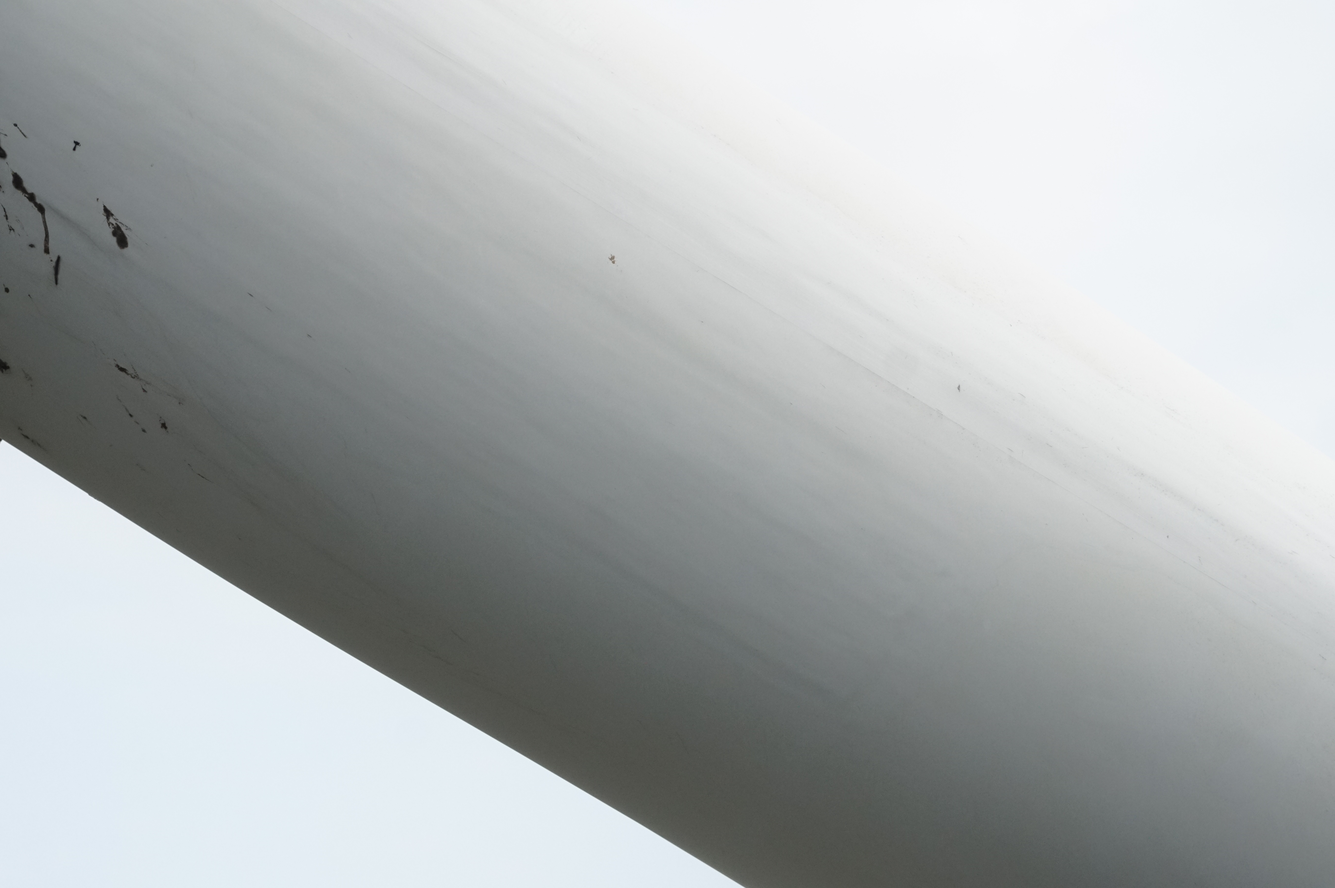Dirt: (10, 166, 51, 256), (97, 192, 134, 255), (51, 251, 65, 288)
